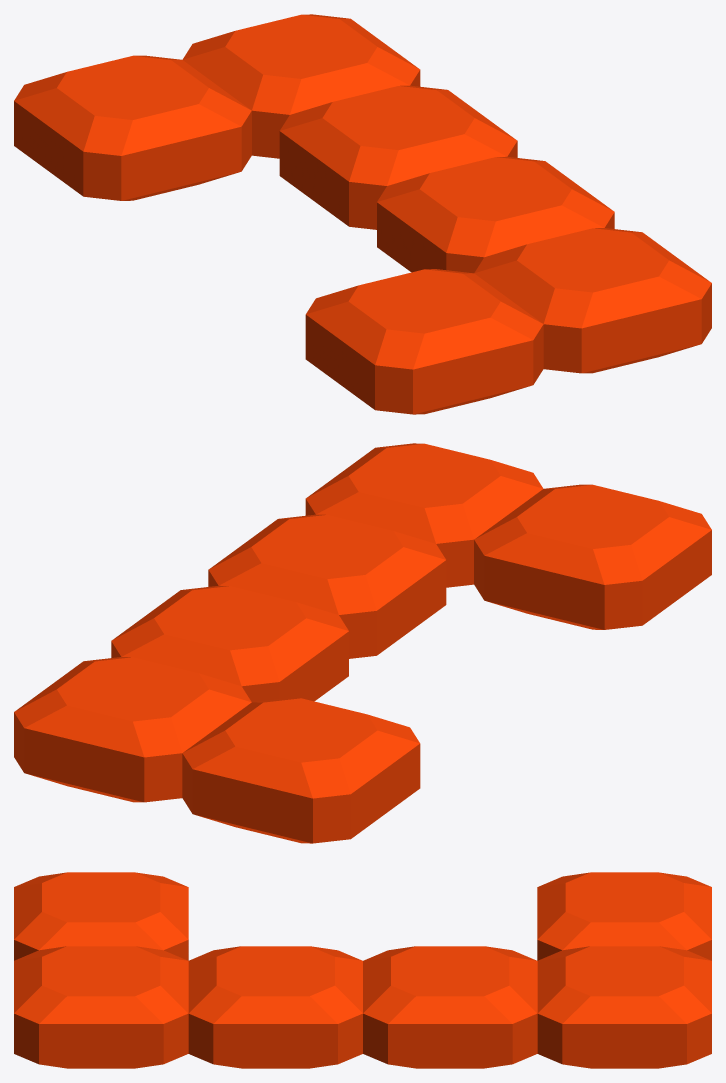
3 renders of one model, top to bottom at view 1: azimuth 30°, elevation 25°; view 2: azimuth 150°, elevation 25°; view 3: azimuth 270°, elevation 25°, orthographic. The views are drawn at different scales.
Visible parts, largest first — view 1: Cube.026; view 2: Cube.026; view 3: Cube.026.
Part boxes in pixels (x1,y1,x2,y2): Cube.026: (14,14,711,414); Cube.026: (14,443,711,843); Cube.026: (14,872,711,1068).
Bounding box in the file's own units: 1 × 0.2288 × 2.
1 material, 1 textured.
